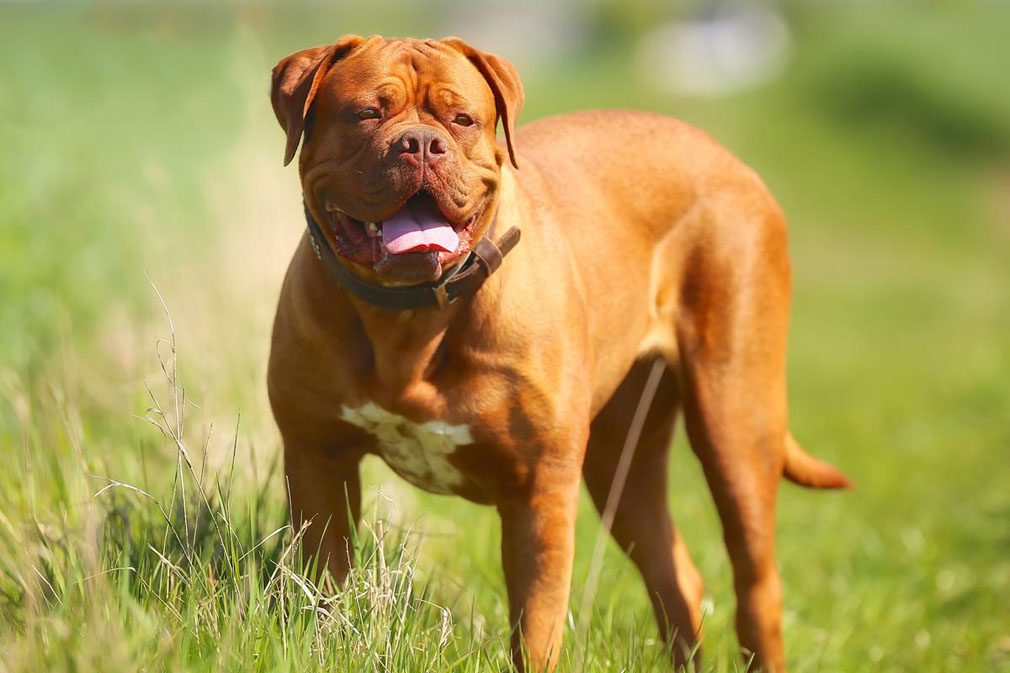dogue_de_bordeaux: (267, 32, 856, 673)
